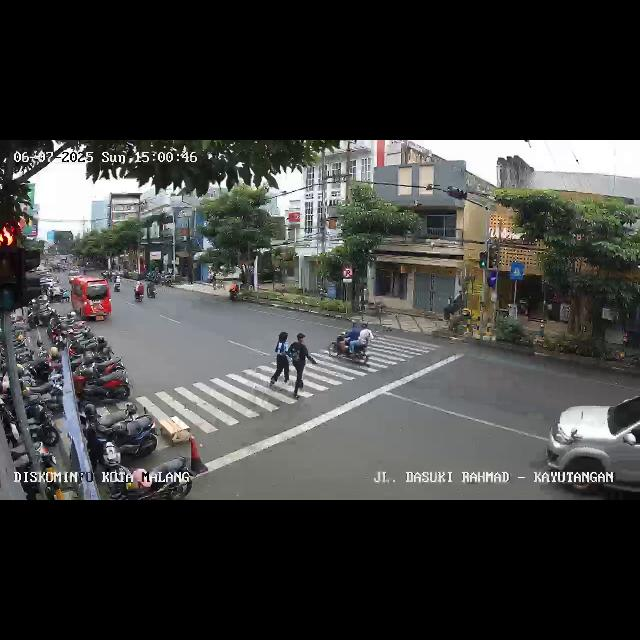car: (542, 396, 640, 500), (70, 274, 112, 322)
motorcycle: (330, 320, 374, 368), (134, 279, 146, 303), (148, 278, 158, 300), (112, 274, 122, 292)
person: (290, 330, 310, 398), (272, 330, 290, 390)
